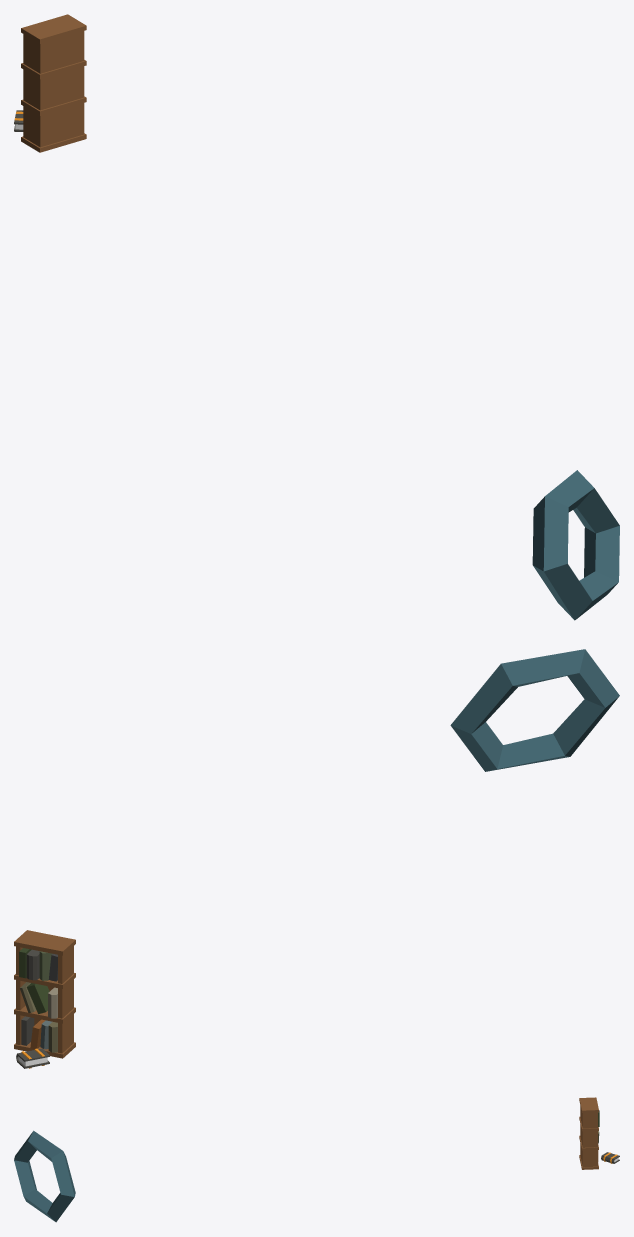
The picture shows the model from 3 angles, top to bottom: view 1: azimuth 30°, elevation 25°; view 2: azimuth 150°, elevation 25°; view 3: azimuth 270°, elevation 25°; orthographic projection. The views are drawn at different scales.
Visible parts, largest first — view 1: Torus062_metal_0, Box15180_brown_0; view 2: Torus062_metal_0, Box15180_brown_0; view 3: Torus062_metal_0, Box15180_brown_0.
Part boxes in pixels (x1,y1,x2,y2): Torus062_metal_0: [532, 470, 619, 620]; Box15180_brown_0: [21, 14, 86, 152]; Torus062_metal_0: [450, 649, 619, 771]; Box15180_brown_0: [14, 930, 75, 1058]; Torus062_metal_0: [14, 1130, 75, 1222]; Box15180_brown_0: [579, 1097, 598, 1169].
Bounding box in the file's own units: 297 × 476 × 2436.
